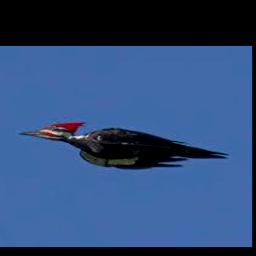Woodpecker: (19, 121, 229, 169)
